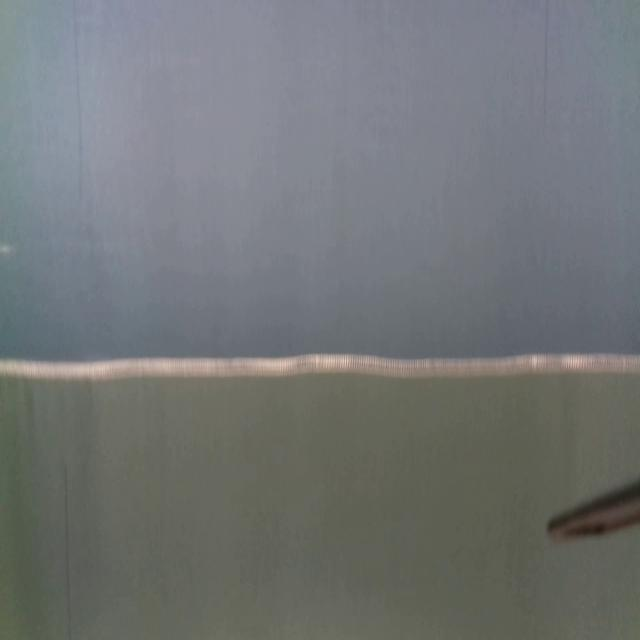crease: (72, 0, 85, 205), (62, 460, 73, 640), (541, 1, 551, 140)
